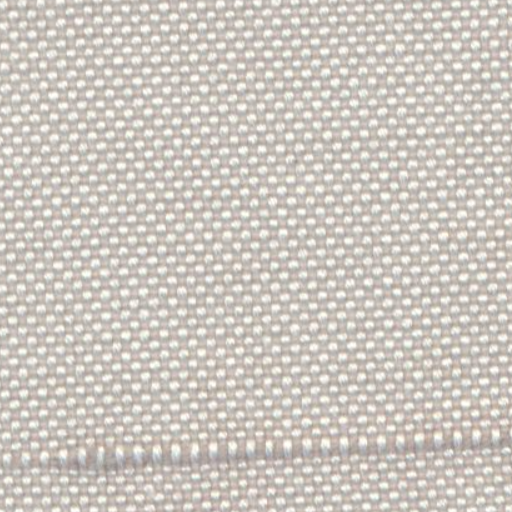DaiSha: (37, 420, 499, 476)
